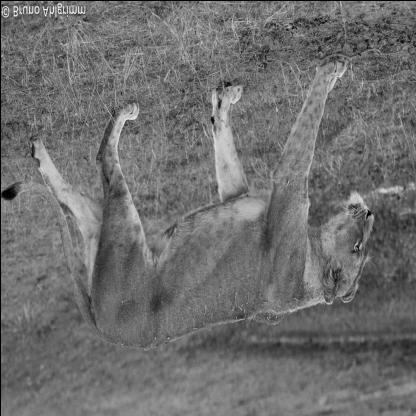lion: (316, 186, 374, 309)
